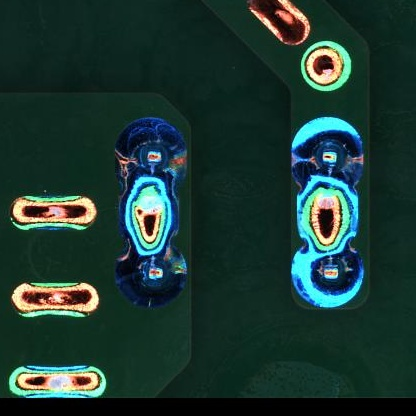spot: (289, 118, 365, 188), (111, 115, 187, 181), (288, 244, 365, 309), (114, 245, 189, 308)
